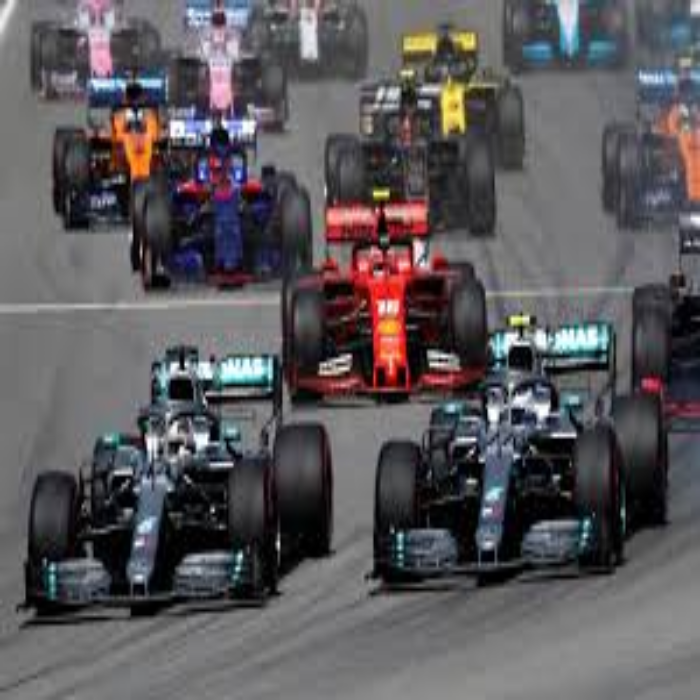f1_car: (26, 326, 341, 613), (365, 318, 678, 589), (280, 196, 507, 408), (129, 121, 326, 301), (317, 94, 517, 241), (345, 21, 535, 170), (57, 74, 212, 223), (165, 4, 310, 132)
